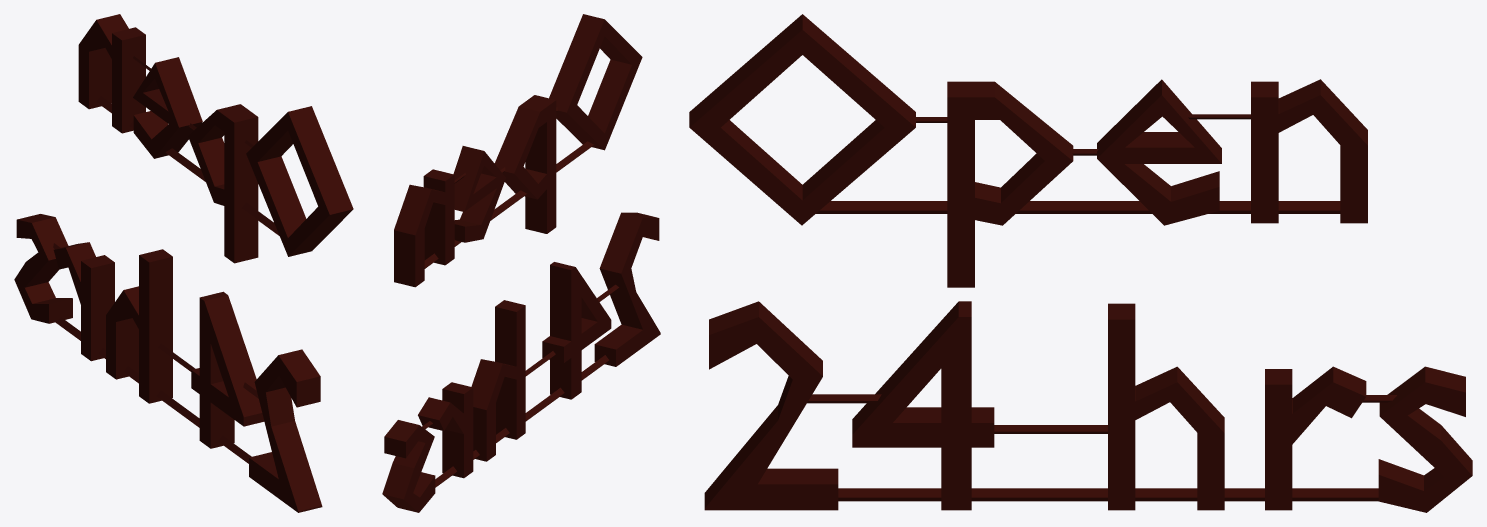
The picture shows the model from 3 angles, left to right: view 1: azimuth 30°, elevation 25°; view 2: azimuth 150°, elevation 25°; view 3: azimuth 270°, elevation 25°; orthographic projection. The views are drawn at different scales.
Parts seen in each view (by area): view 1: Text_002, Text_007; view 2: Text_002, Text_007; view 3: Text_002, Text_007.
Boxes of the visible parts, left/top/right/bottom form: Text_002: left=14, top=214, right=322, bottom=512; Text_007: left=78, top=14, right=353, bottom=263; Text_002: left=382, top=212, right=660, bottom=512; Text_007: left=394, top=14, right=642, bottom=287; Text_002: left=704, top=301, right=1472, bottom=512; Text_007: left=689, top=14, right=1367, bottom=287.
Size of the model in its own units: 0.0991 by 0.7058 by 1.
